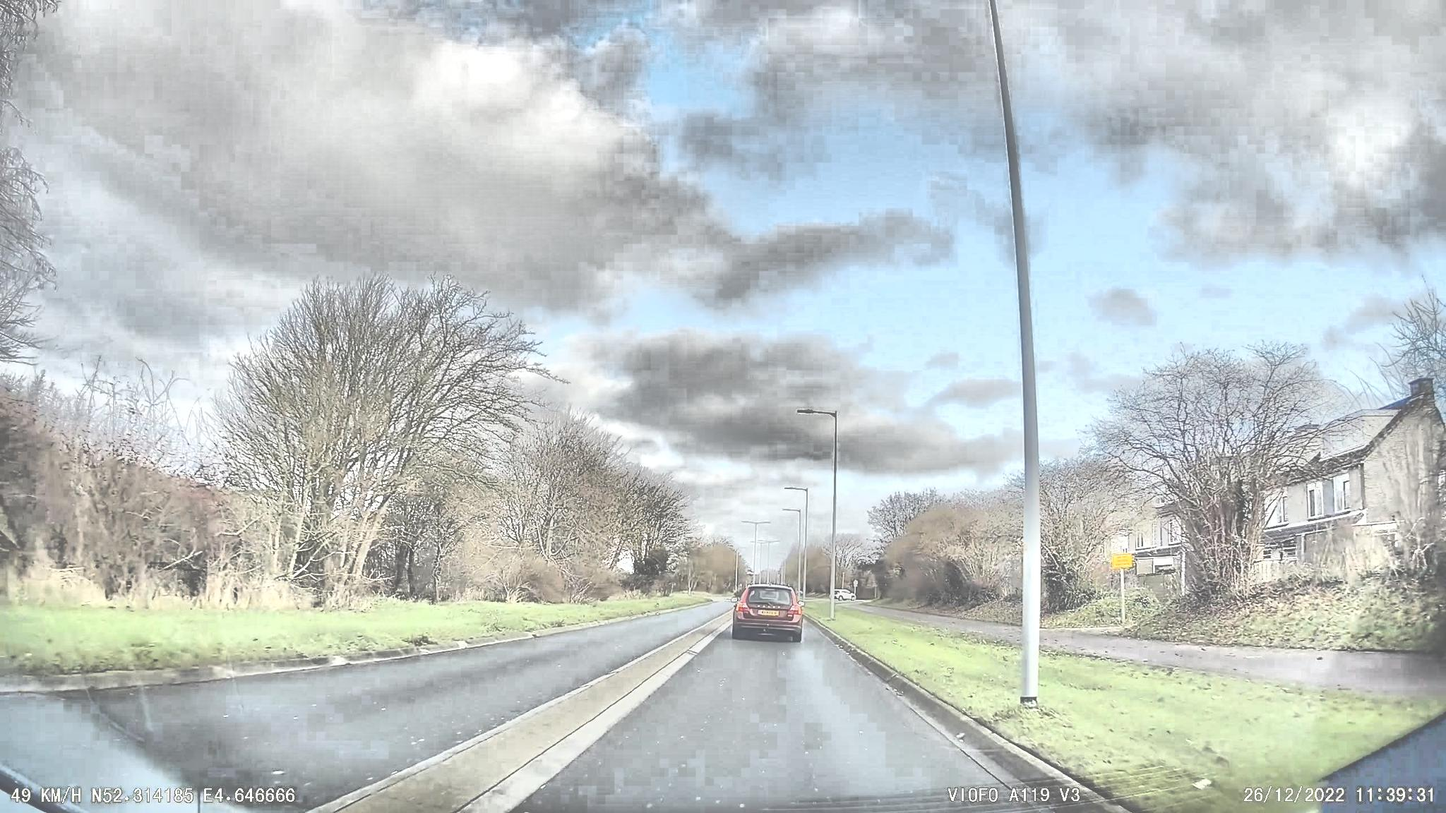Roads: (0, 603, 1135, 813)
